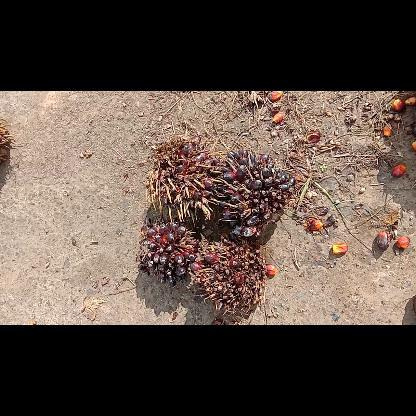TBS abnormal: (216, 148, 294, 240), (189, 233, 265, 314), (146, 138, 221, 218), (138, 217, 198, 283)
